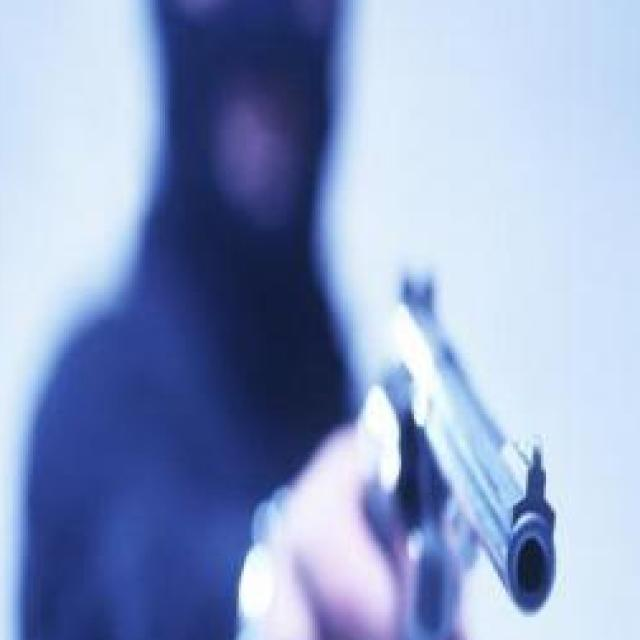pistol: (360, 256, 558, 640)
